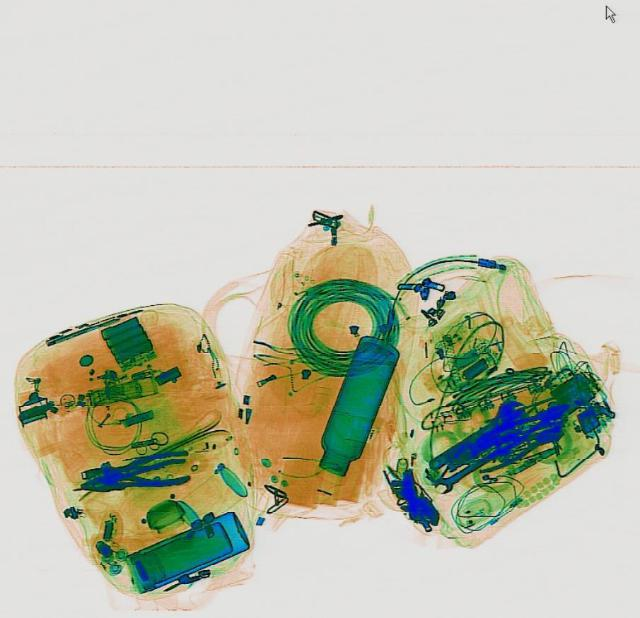Pliers: (76, 445, 192, 502), (476, 396, 572, 459)
Wrench: (422, 392, 532, 475), (430, 444, 506, 493)
